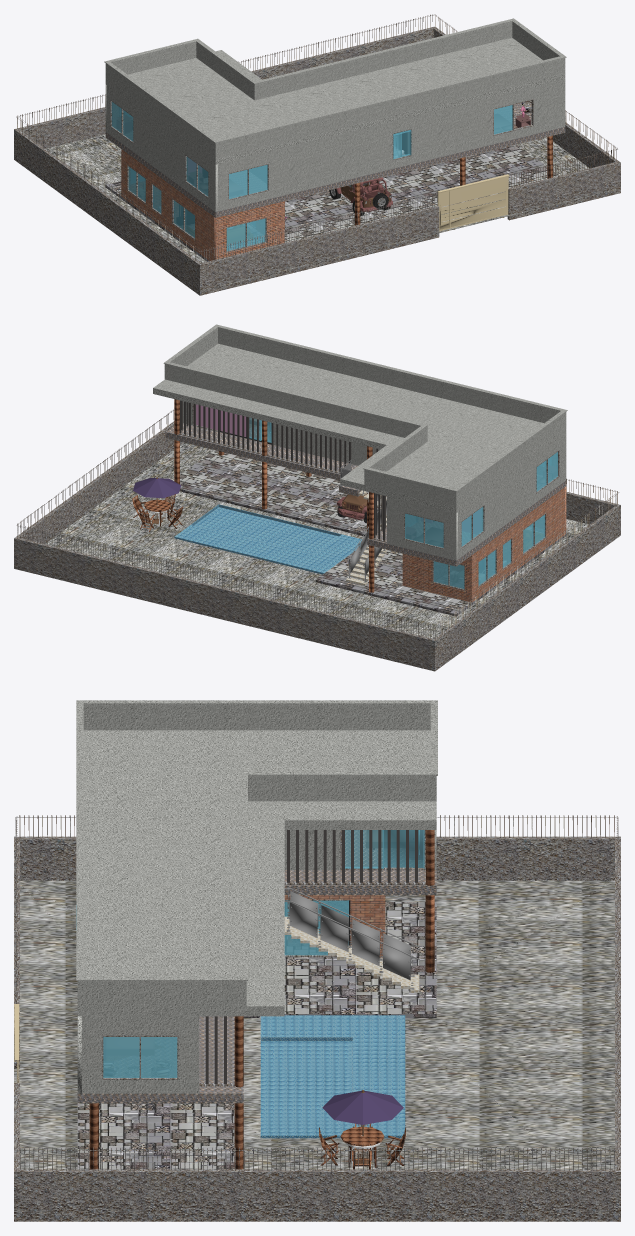
Rendered from villa.glb.
3 renders of one model, top to bottom at view 1: azimuth 30°, elevation 25°; view 2: azimuth 150°, elevation 25°; view 3: azimuth 270°, elevation 25°, orthographic. The views are drawn at different scales.
Parts seen in each view (by area): view 1: Basic Wall Generic - FENCE WALL [13266529]; view 2: Basic Wall Generic - FENCE WALL [13266529]; view 3: Basic Wall Generic - FENCE WALL [13266529].
Boxes of the visible parts, x1,y1,x2,y2 form: Basic Wall Generic - FENCE WALL [13266529]: (14,14,620,295); Basic Wall Generic - FENCE WALL [13266529]: (14,324,620,671); Basic Wall Generic - FENCE WALL [13266529]: (14,700,620,1221).
Size of the model in its own units: 260 by 84.55 by 199.
37 materials, 12 textured.
